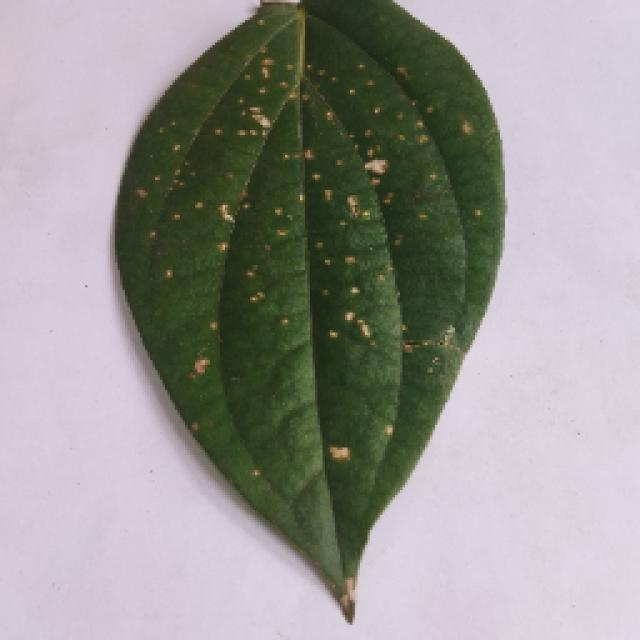pollu-disease: (63, 15, 585, 630)
